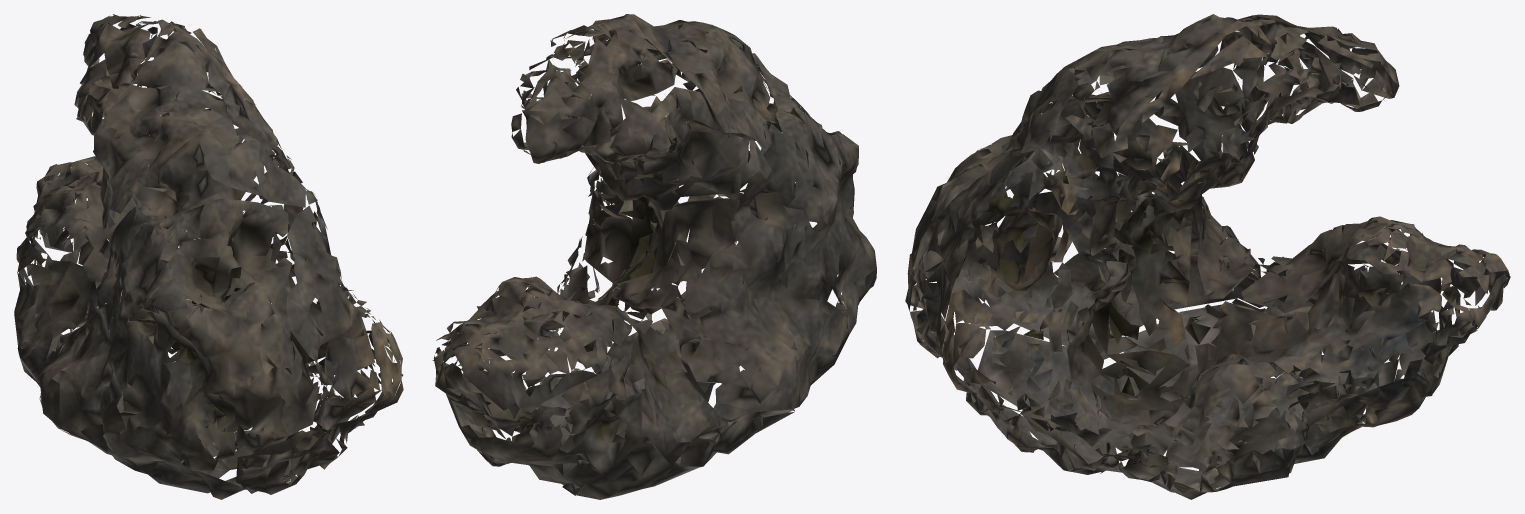
The model's file is asteroid_rare_4_lod2.glb.
3 views of the same model, side by side, from view 1: azimuth 30°, elevation 25°; view 2: azimuth 150°, elevation 25°; view 3: azimuth 270°, elevation 25° (orthographic). The views are drawn at different scales.
Parts seen in each view (by area): view 1: model; view 2: model; view 3: model.
Boxes of the visible parts, x1,y1,x2,y2 form: model: (14, 14, 403, 499); model: (432, 14, 876, 499); model: (905, 14, 1510, 499).
Size of the model in its own units: 1.08 by 1.56 by 1.9.
1 material, 1 textured.
